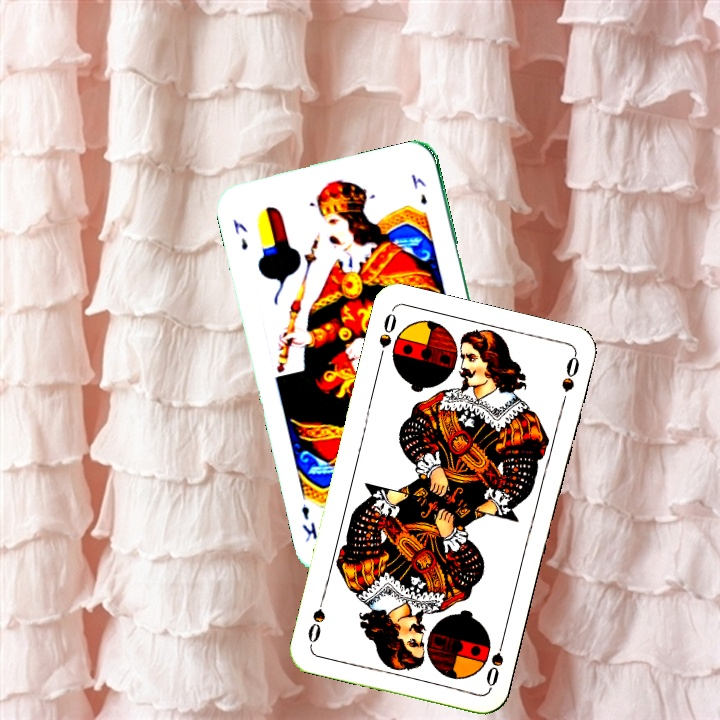EK: (229, 215, 251, 253)
SO: (482, 632, 508, 691), (374, 307, 399, 365)
